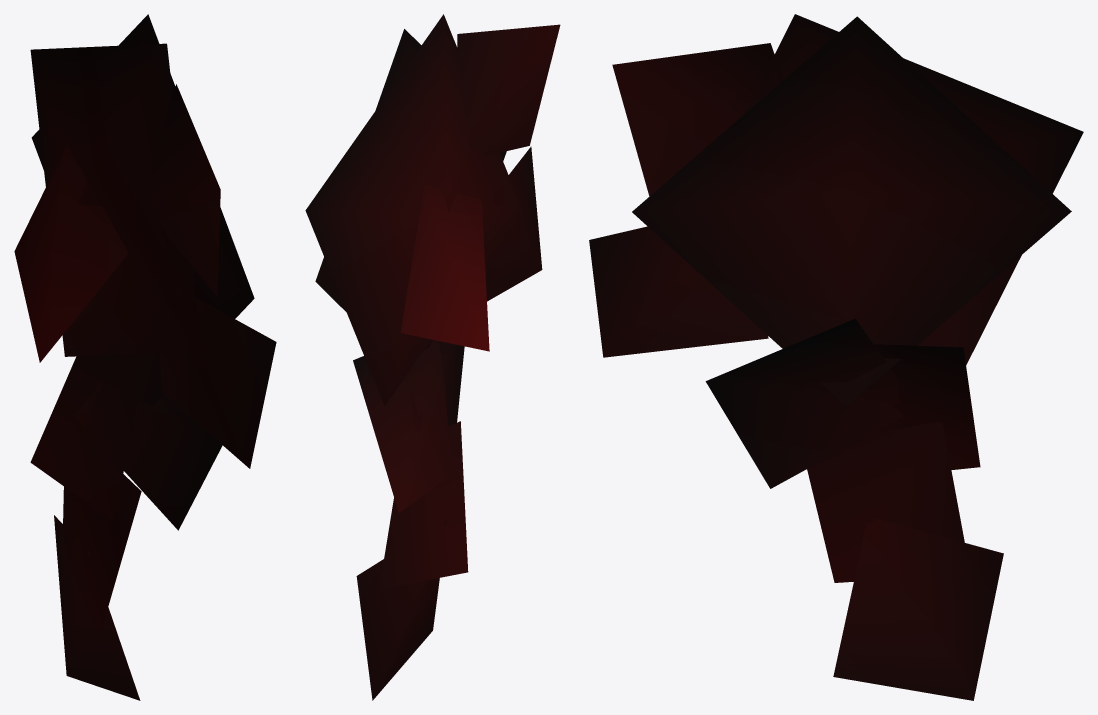
File: TGV_Ivy_05B.fbx
3 renders of one model, left to right at view 1: azimuth 30°, elevation 25°; view 2: azimuth 150°, elevation 25°; view 3: azimuth 270°, elevation 25°, orthographic. The views are drawn at different scales.
Visible parts, largest first — view 1: TGV_Ivy__05B_LOD1; view 2: TGV_Ivy__05B_LOD1; view 3: TGV_Ivy__05B_LOD1.
Part boxes in pixels (<box>): TGV_Ivy__05B_LOD1: <box>14,14,276,700</box>; TGV_Ivy__05B_LOD1: <box>305,14,560,700</box>; TGV_Ivy__05B_LOD1: <box>589,14,1083,700</box>.
Bounding box in the file's own units: 25.65 × 153 × 98.78.
